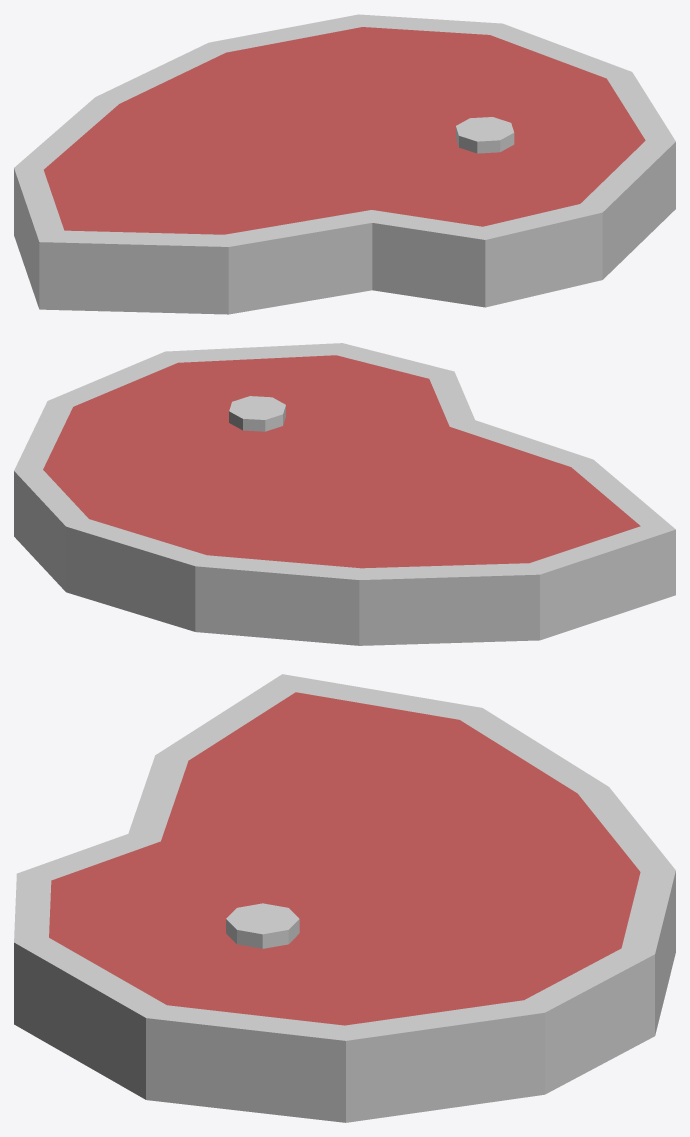
Rendered from SM_Meat.fbx.
3 renders of one model, top to bottom at view 1: azimuth 30°, elevation 25°; view 2: azimuth 150°, elevation 25°; view 3: azimuth 270°, elevation 25°, orthographic. The views are drawn at different scales.
Visible parts, largest first — view 1: meat; view 2: meat; view 3: meat.
Part boxes in pixels (x1,y1,x2,y2): meat: (14,14,675,314); meat: (14,343,675,645); meat: (14,674,675,1122).
Size of the model in its own units: 62.26 by 7.64 by 47.49.
